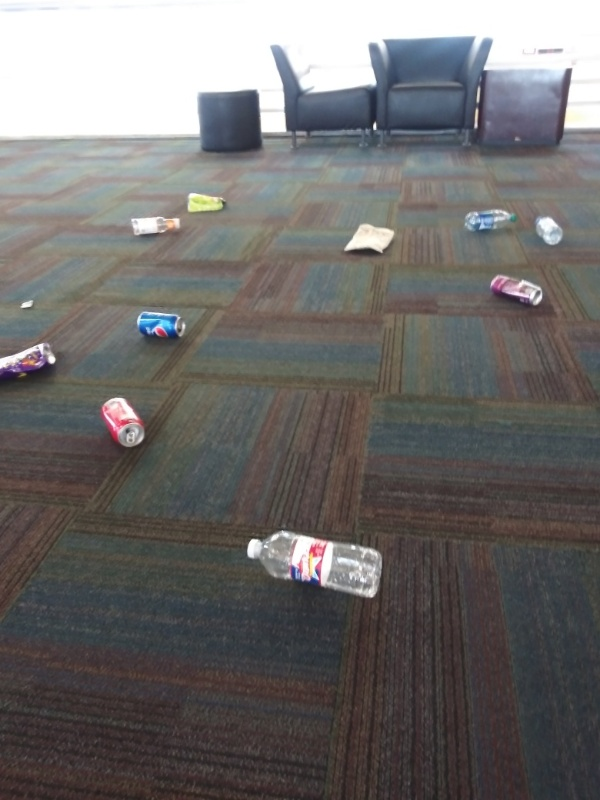bag: (1, 339, 60, 388), (337, 220, 400, 259), (183, 189, 227, 215)
bottle: (237, 531, 384, 601), (129, 211, 185, 243), (460, 205, 521, 233), (529, 210, 565, 249)
can: (98, 389, 148, 452), (134, 308, 191, 343), (489, 272, 546, 307)
